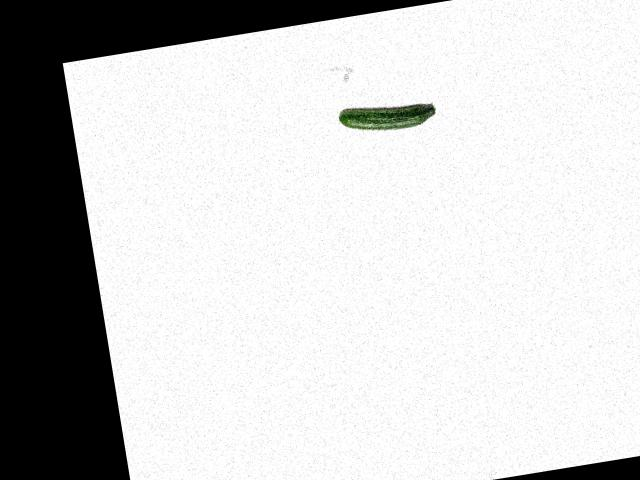cucumber: (336, 95, 437, 137)
